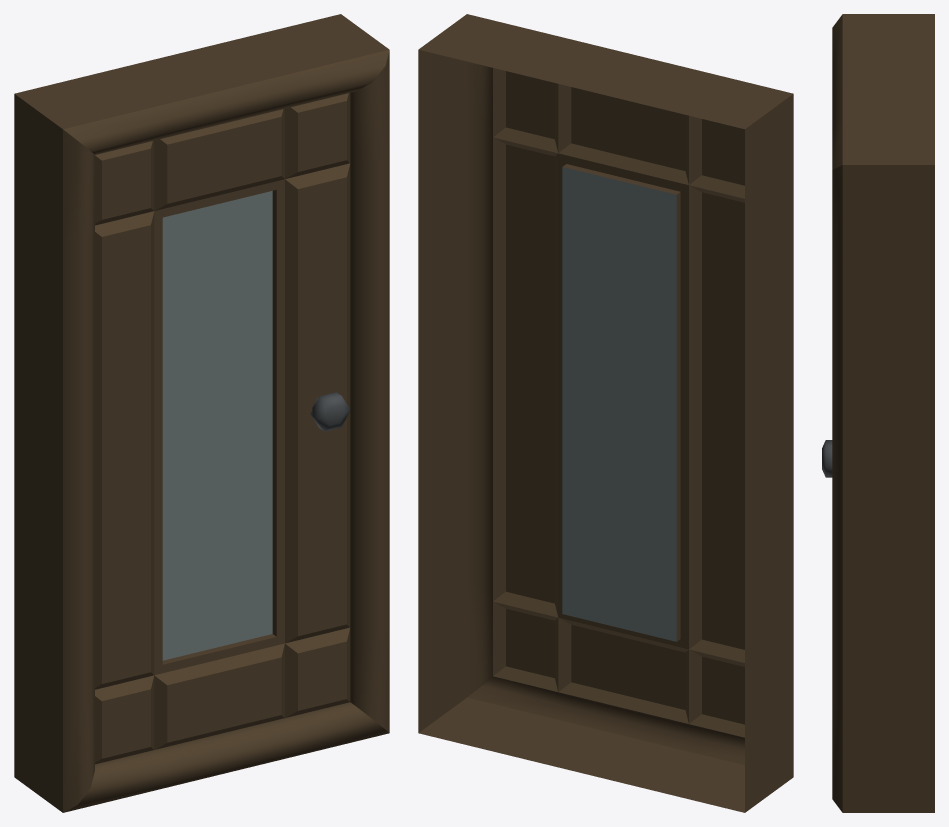
The model's file is PS_Door03.fbx.
3 renders of one model, left to right at view 1: azimuth 30°, elevation 25°; view 2: azimuth 150°, elevation 25°; view 3: azimuth 270°, elevation 25°, orthographic. The views are drawn at different scales.
Visible parts, largest first — view 1: PS_Door03; view 2: PS_Door03; view 3: PS_Door03.
Part boxes in pixels (box(x1,y1,x2,y2)): PS_Door03: box(14, 14, 389, 812); PS_Door03: box(418, 14, 793, 812); PS_Door03: box(822, 14, 934, 812).
Bounding box in the file's own units: 1 × 2 × 0.3161.
